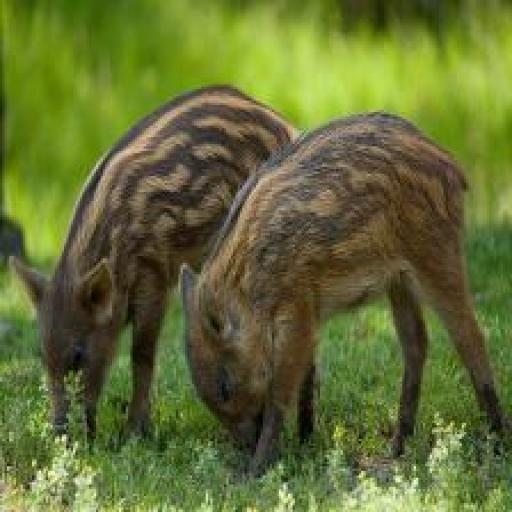Pig: (178, 110, 502, 473), (9, 84, 306, 444)
